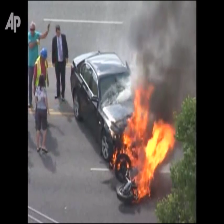fire_h: (121, 77, 175, 199)
fire_l: (118, 157, 129, 168), (112, 147, 118, 167)
